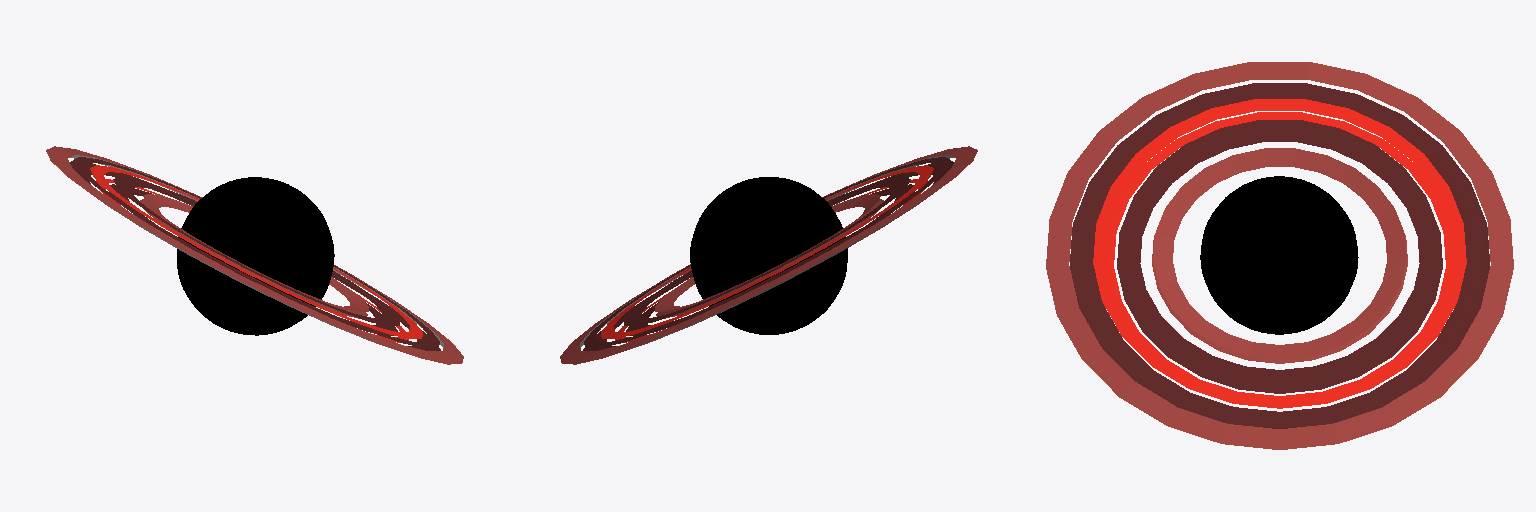
File: ring2.obj
3 renders of one model, left to right at view 1: azimuth 30°, elevation 25°; view 2: azimuth 150°, elevation 25°; view 3: azimuth 270°, elevation 25°, orthographic.
Visible parts, largest first — view 1: pSphere1, pTorus1; view 2: pSphere1, pTorus1; view 3: pTorus1, pSphere1.
Boxes of the visible parts, <box> form: pSphere1: <box>177,177,334,335</box>; pTorus1: <box>46,146,463,364</box>; pSphere1: <box>690,177,847,334</box>; pTorus1: <box>560,146,977,364</box>; pTorus1: <box>1046,62,1513,449</box>; pSphere1: <box>1200,176,1358,334</box>.
Size of the model in its own units: 43.57 by 26.45 by 51.07.